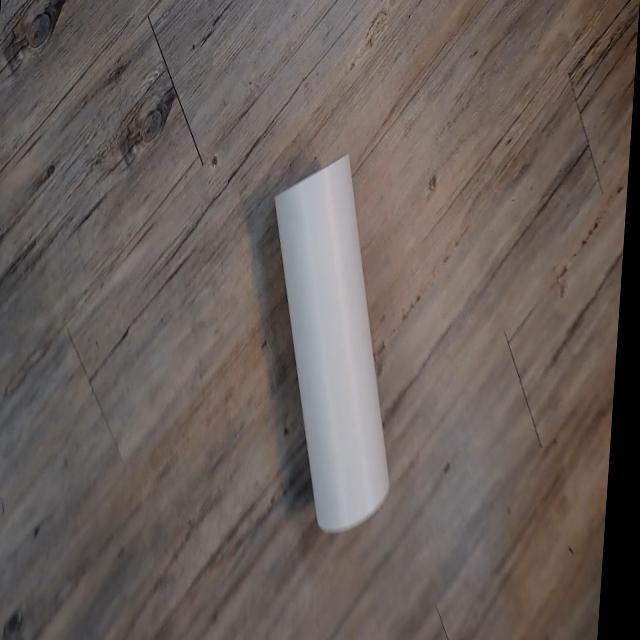CORAL: (247, 152, 418, 544)
